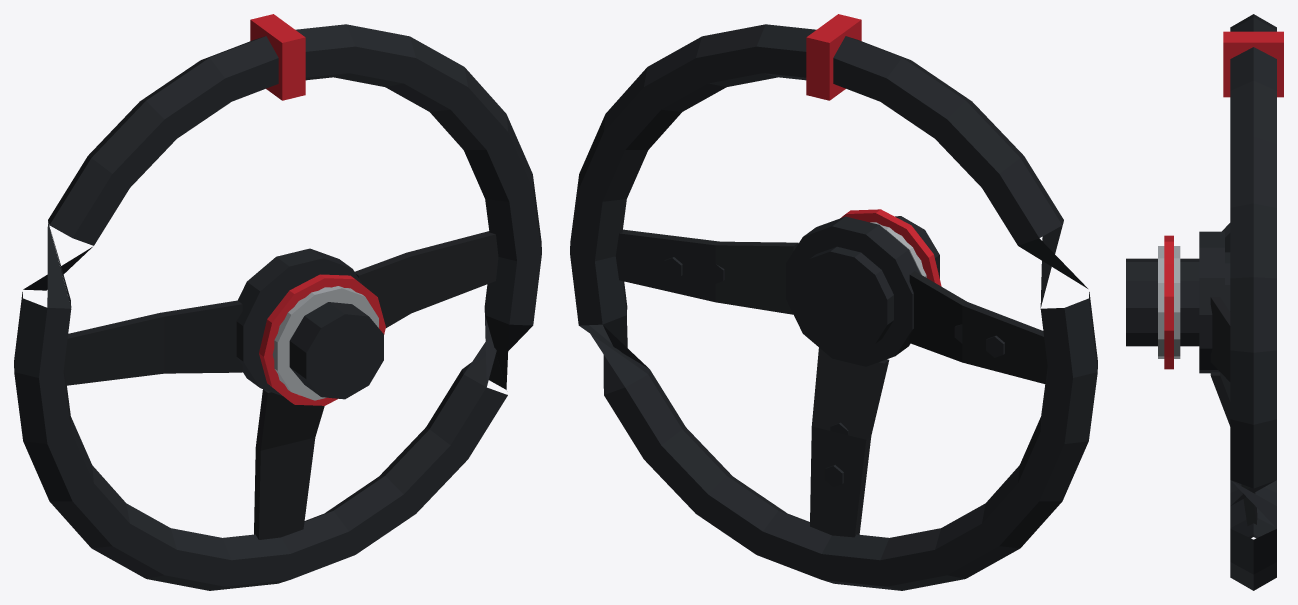
Rendered from brute_500.glb.
3 renders of one model, left to right at view 1: azimuth 30°, elevation 25°; view 2: azimuth 150°, elevation 25°; view 3: azimuth 270°, elevation 25°, orthographic. The views are drawn at different scales.
Visible parts, largest first — view 1: model; view 2: model; view 3: model.
Boxes of the visible parts, <box> form: model: <box>14,14,541,590</box>; model: <box>570,14,1097,590</box>; model: <box>1126,14,1283,590</box>.
Size of the model in its own units: 0.363 by 0.365 by 0.099.
Materials: 3 (1 with a texture image).
